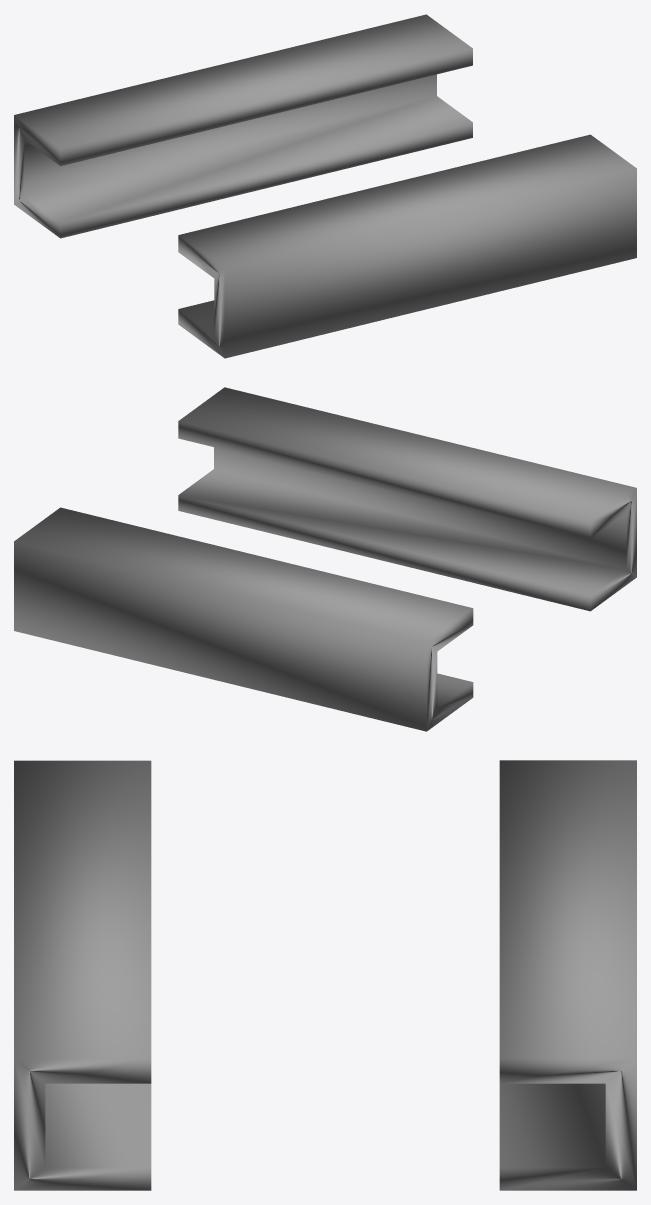
The model's file is guidao.gltf.
The picture shows the model from 3 angles, top to bottom: view 1: azimuth 30°, elevation 25°; view 2: azimuth 150°, elevation 25°; view 3: azimuth 270°, elevation 25°; orthographic projection. The views are drawn at different scales.
Parts seen in each view (by area): view 1: Box1736, Box1735; view 2: Box1736, Box1735; view 3: Box1736, Box1735.
Boxes of the visible parts, x1,y1,x2,y2 form: Box1736: [14, 14, 472, 238]; Box1735: [178, 134, 636, 358]; Box1736: [14, 507, 473, 731]; Box1735: [178, 387, 636, 611]; Box1736: [499, 760, 636, 1190]; Box1735: [14, 760, 151, 1190].
Bounding box in the file's own units: 723 × 150 × 639.
Materials: 1 (1 with a texture image).
